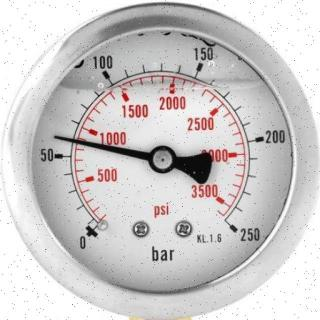gauge: (16, 18, 313, 307), (209, 206, 264, 250), (70, 210, 112, 252), (148, 144, 176, 174), (50, 131, 66, 144)
